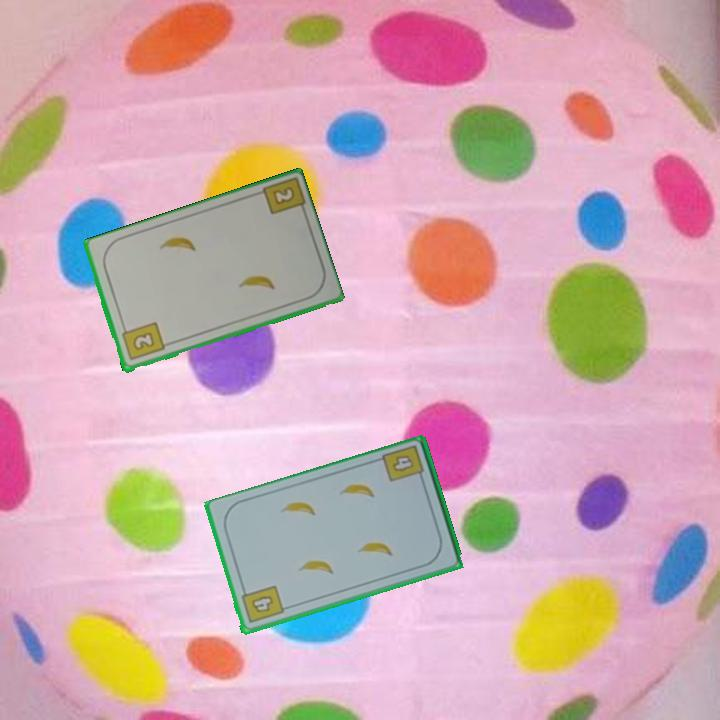2b: (118, 319, 167, 363), (269, 183, 297, 208)
4b: (238, 582, 286, 627), (379, 442, 427, 486)
